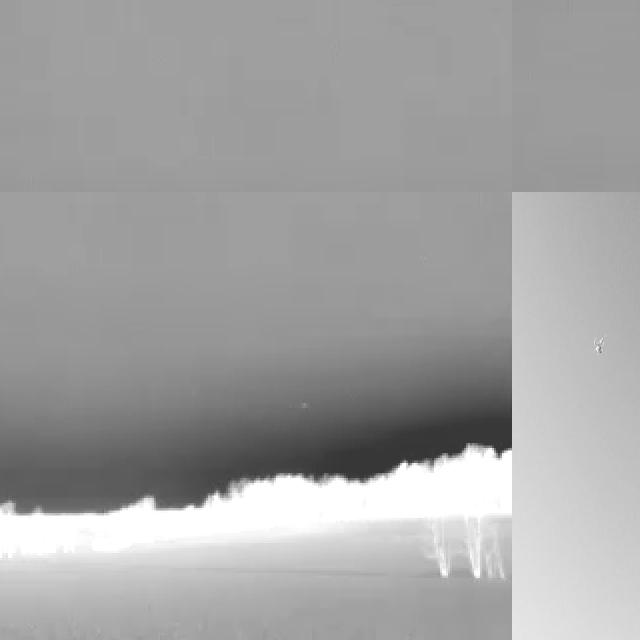0: (288, 391, 318, 423)
drone: (592, 328, 610, 360)
